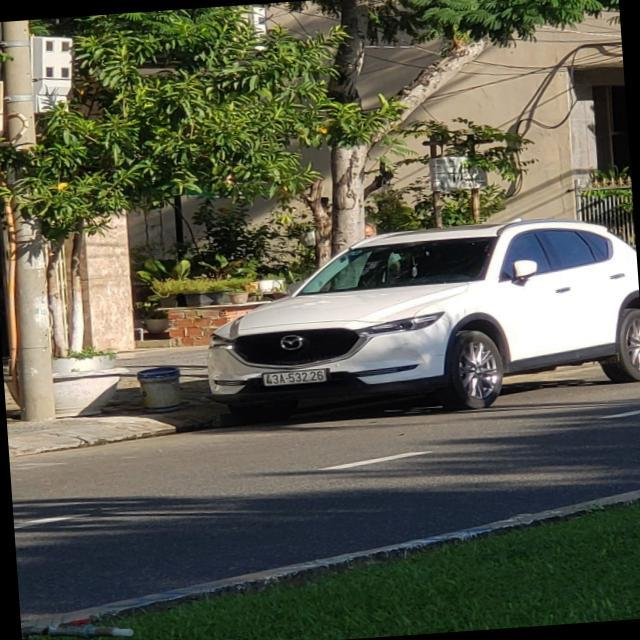car: (181, 223, 640, 444)
plate: (257, 361, 332, 393)
